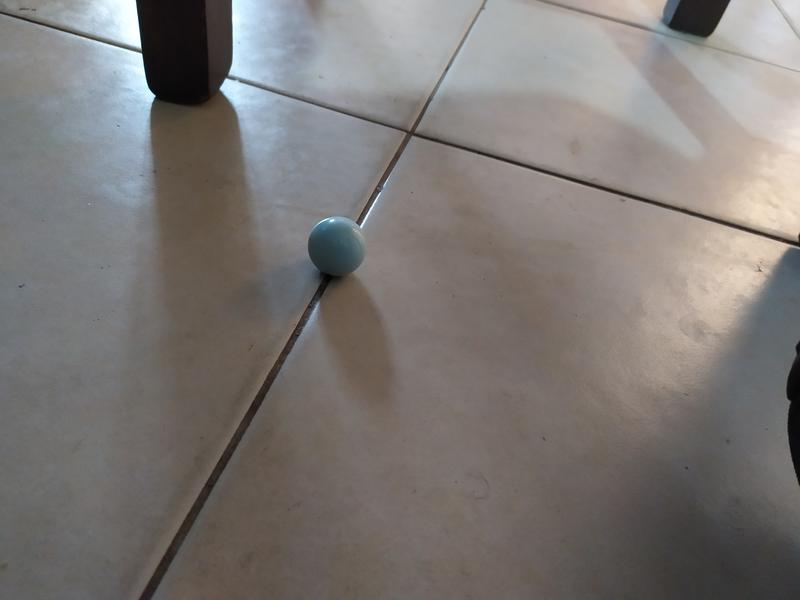Warning: (305, 213, 370, 279)
